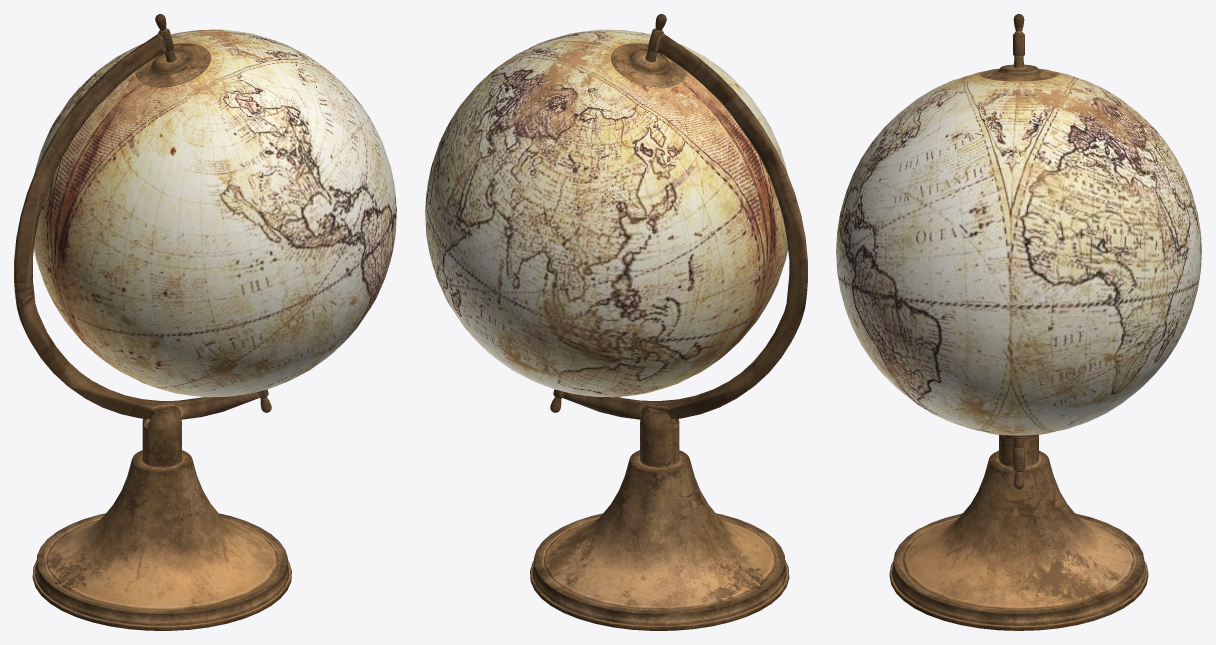
Rendered from mdl_hub_oldworldglobe.gltf.
The picture shows the model from 3 angles, left to right: view 1: azimuth 30°, elevation 25°; view 2: azimuth 150°, elevation 25°; view 3: azimuth 270°, elevation 25°; orthographic projection.
Parts seen in each view (by area): view 1: polySurface18; view 2: polySurface18; view 3: polySurface18.
Boxes of the visible parts, x1,y1,x2,y2 form: polySurface18: (14,14,396,630); polySurface18: (425,14,807,630); polySurface18: (836,14,1201,630).
Size of the model in its own units: 138 by 207 by 122.
1 material, 1 textured.
